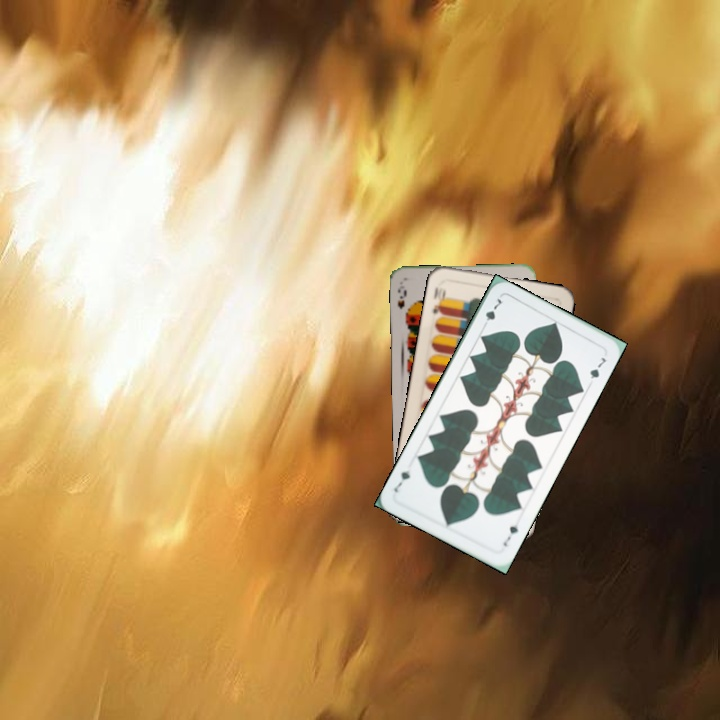E10: (429, 283, 448, 317)
G7: (478, 294, 505, 331), (499, 517, 522, 549)
S9: (393, 286, 413, 321)
